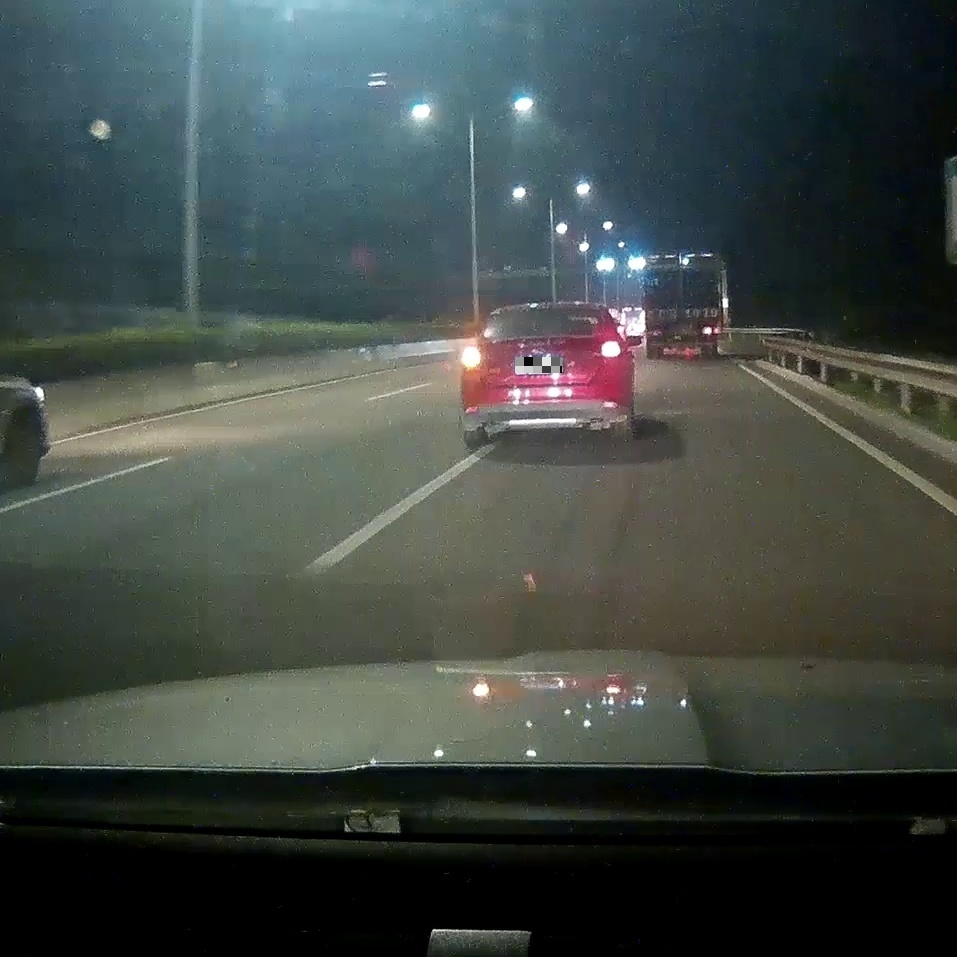L_light: (462, 349, 484, 366), (648, 331, 663, 338)
R_light: (595, 340, 621, 357), (701, 327, 719, 335)
T_light: (531, 308, 555, 315), (673, 258, 690, 264)
night-left: (461, 302, 631, 448)
night-no: (643, 254, 726, 360)
plate_1: (515, 357, 562, 373)
